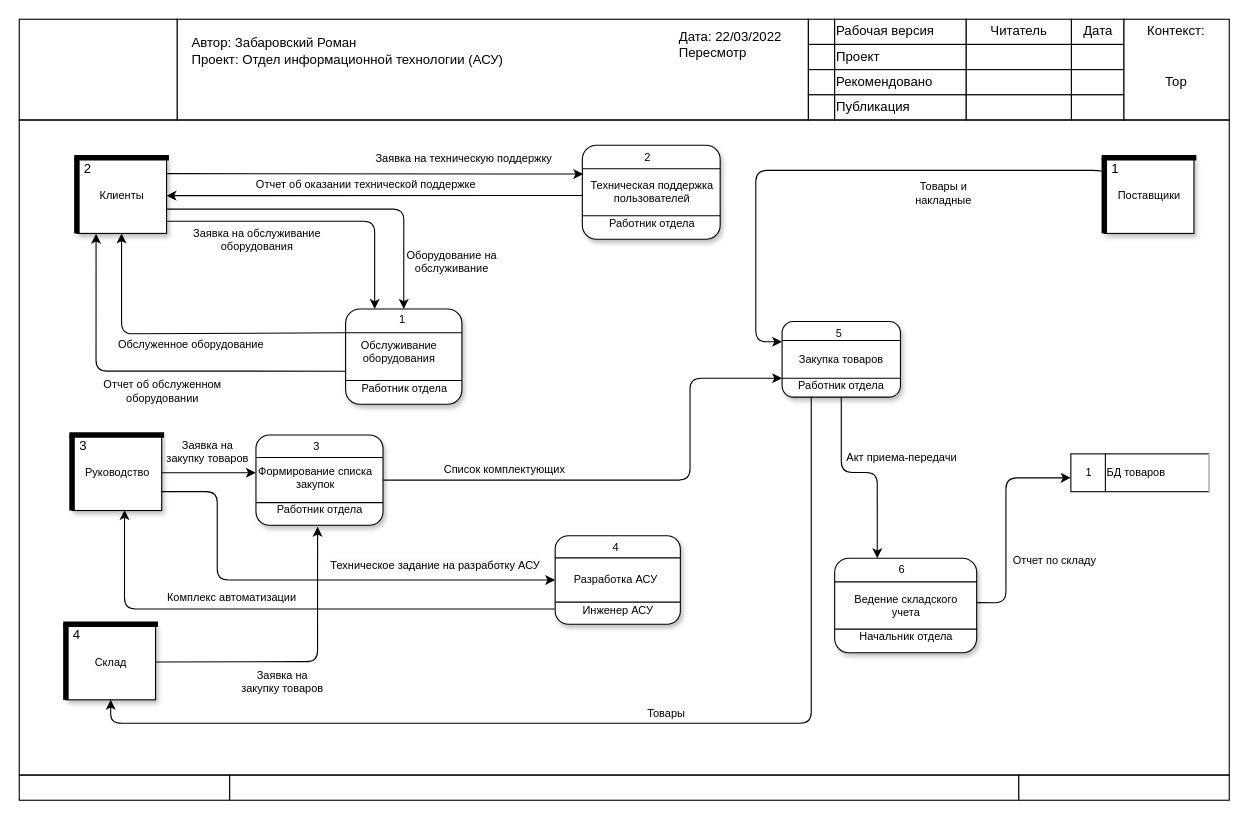
Image size: 1249x820. Some labels were removed from this diagram. Here are the shapes that lost their labels. From the top down, the centre of each, then its label:
At (x=97, y=69): "Используется в:".
At (x=624, y=787): "Название: Работа отдела АСУ".
